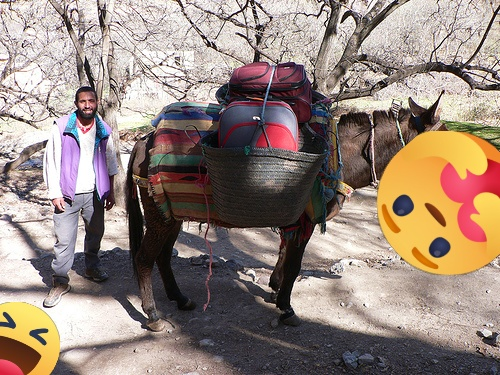care: (377, 131, 500, 275)
haha: (0, 302, 60, 375)
